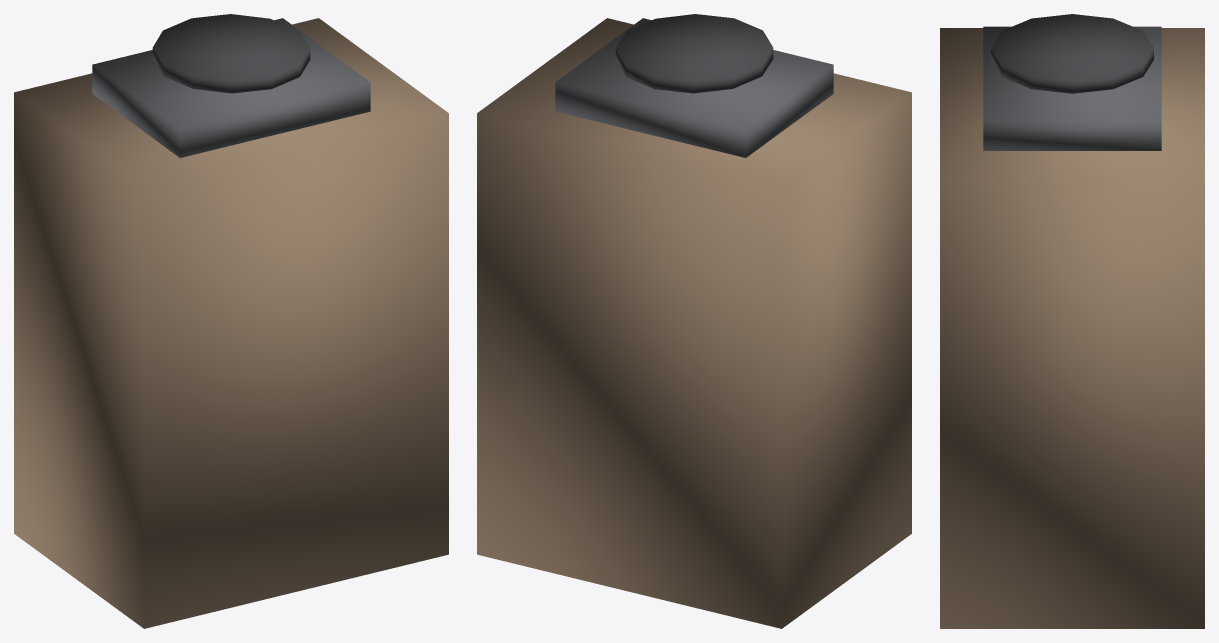
File: record_store_listening_station__compact.glb
3 renders of one model, left to right at view 1: azimuth 30°, elevation 25°; view 2: azimuth 150°, elevation 25°; view 3: azimuth 270°, elevation 25°, orthographic.
Visible parts, largest first — view 1: world; view 2: world; view 3: world.
Boxes of the visible parts, x1,y1,x2,y2 form: world: (14,14,448,628); world: (477,14,911,628); world: (940,14,1204,628).
Size of the model in its own units: 0.6048 by 0.9416 by 0.4472.
